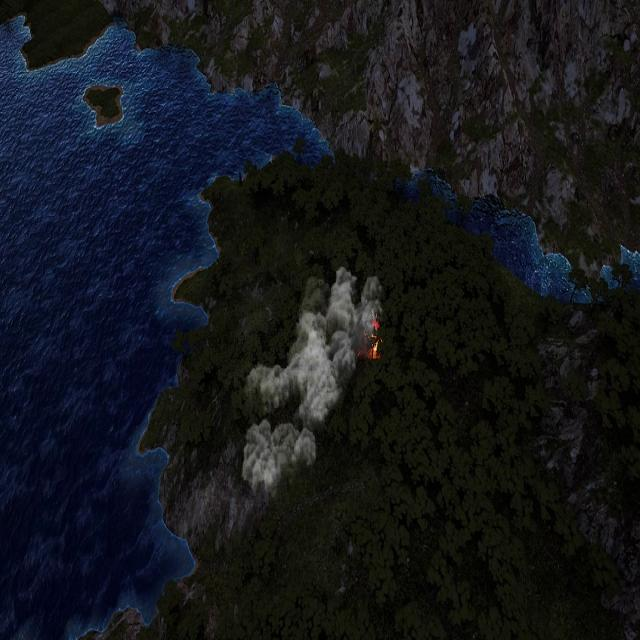fire: (366, 326, 380, 360)
smoke: (239, 270, 385, 498)
